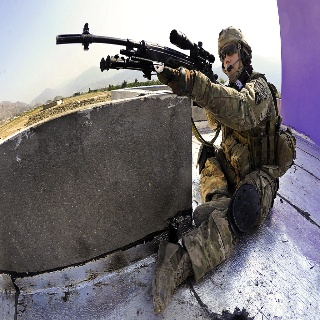rifle: (56, 20, 222, 86)
